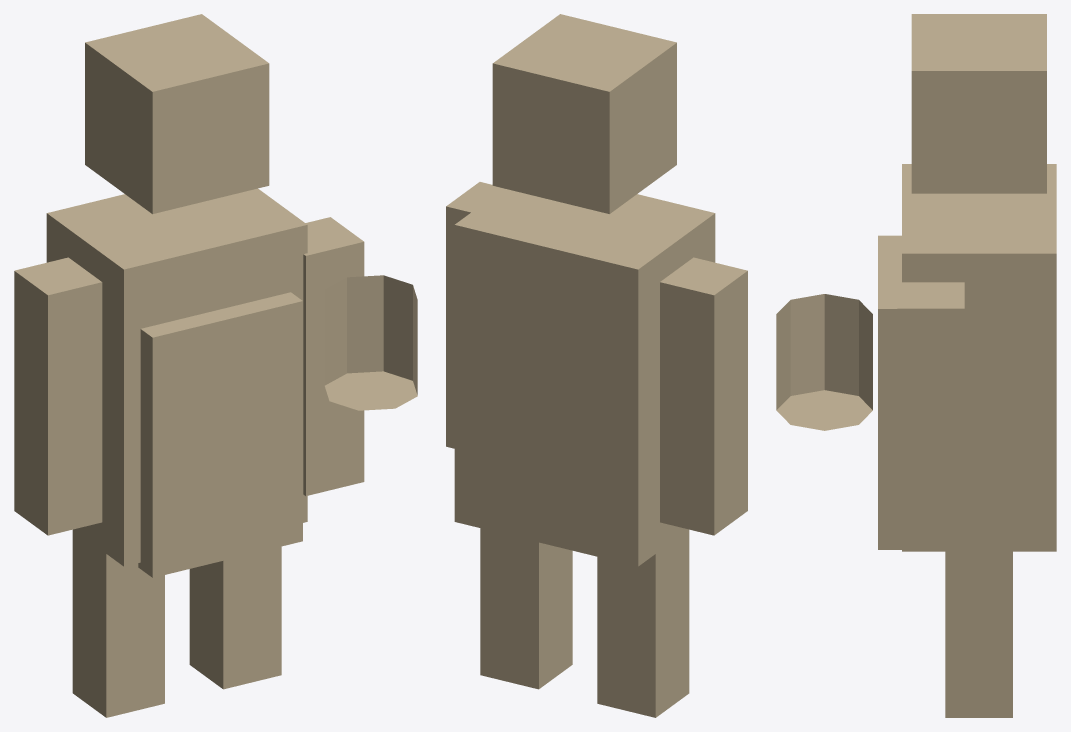
Rendered from Innkeeper.glb.
The picture shows the model from 3 angles, left to right: view 1: azimuth 30°, elevation 25°; view 2: azimuth 150°, elevation 25°; view 3: azimuth 270°, elevation 25°; orthographic projection.
Parts seen in each view (by area): view 1: filler_Innkeeper; view 2: filler_Innkeeper; view 3: filler_Innkeeper.
Part boxes in pixels (<box>): filler_Innkeeper: <box>14,14,417,717</box>; filler_Innkeeper: <box>446,14,747,717</box>; filler_Innkeeper: <box>776,14,1056,717</box>.
Size of the model in its own units: 0.73 by 1.45 by 0.58.
